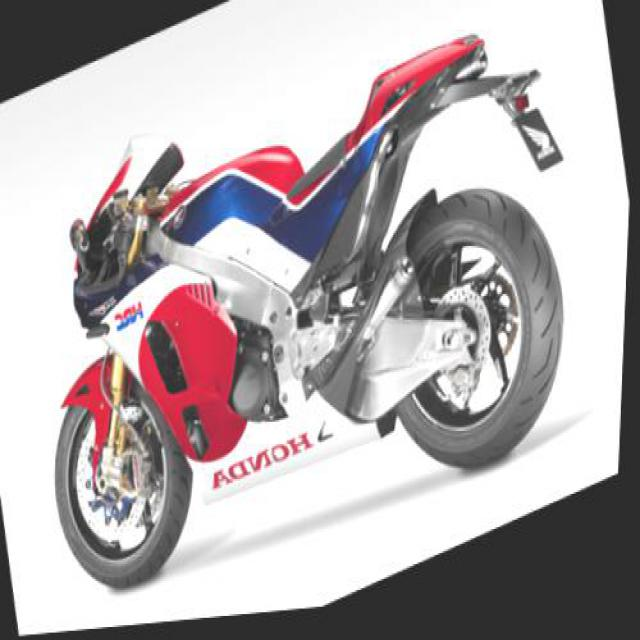HRC RCV 213: (1, 0, 621, 637)
